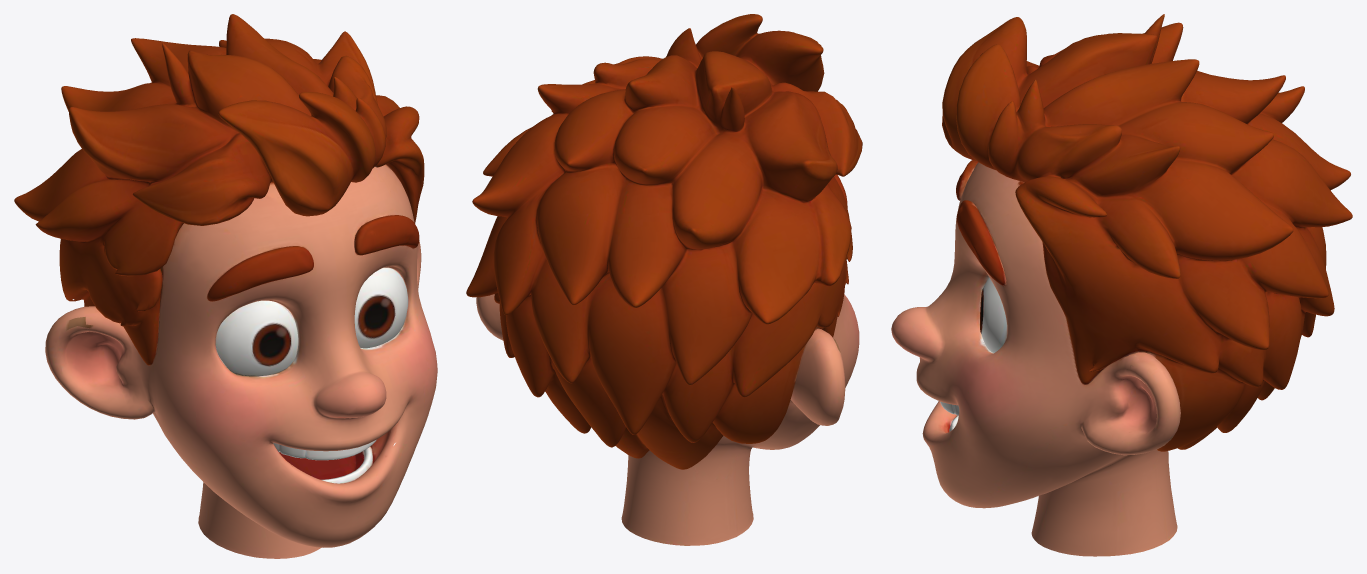
File: toonstudio_face.glb
The picture shows the model from 3 angles, left to right: view 1: azimuth 30°, elevation 25°; view 2: azimuth 150°, elevation 25°; view 3: azimuth 270°, elevation 25°; orthographic projection. The views are drawn at different scales.
Parts seen in each view (by area): view 1: tripo_2d967850_f8c7_46b1_a411_c8cac80e495c; view 2: tripo_2d967850_f8c7_46b1_a411_c8cac80e495c; view 3: tripo_2d967850_f8c7_46b1_a411_c8cac80e495c.
Part boxes in pixels (x1=…): tripo_2d967850_f8c7_46b1_a411_c8cac80e495c: x1=14, y1=14, x2=437, y2=558; tripo_2d967850_f8c7_46b1_a411_c8cac80e495c: x1=466, y1=14, x2=862, y2=545; tripo_2d967850_f8c7_46b1_a411_c8cac80e495c: x1=891, y1=14, x2=1352, y2=556.
Size of the model in its own units: 0.2434 by 0.3 by 0.2598.
Materials: 1 (1 with a texture image).
